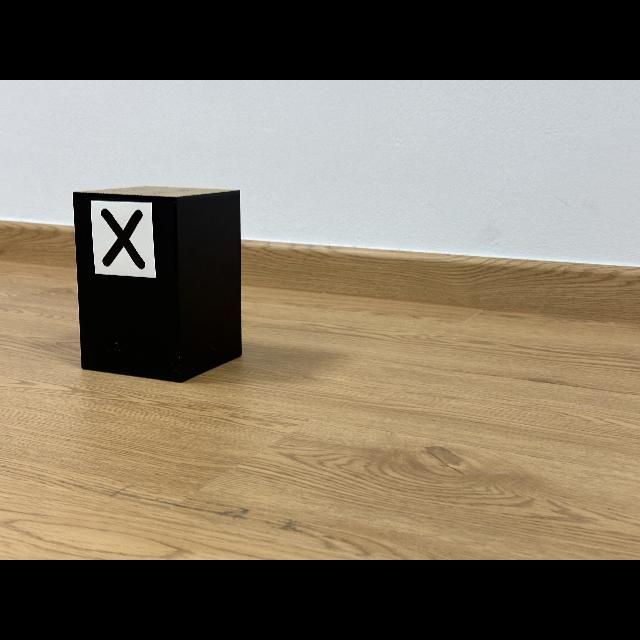X: (101, 209, 145, 269)
